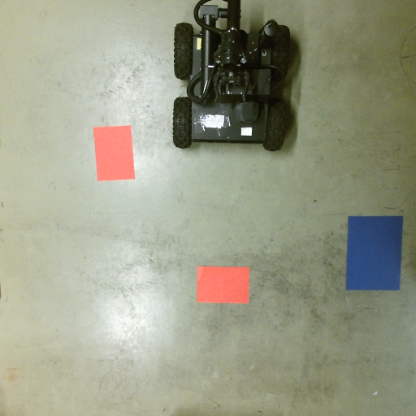Blue: (346, 217, 403, 291)
Jaguar: (170, 0, 290, 155)
Red: (92, 128, 136, 180), (196, 268, 252, 306)
